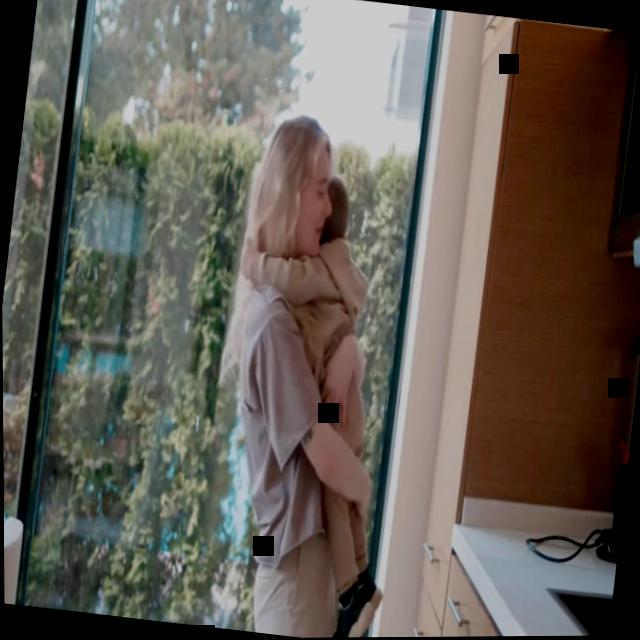NO-Mask: (291, 156, 338, 260)
